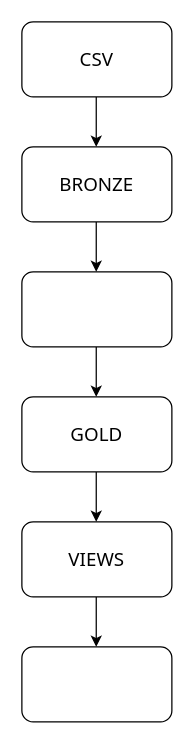
This 194x744 diagram has some shape labels left out. The centre of each missing label's shape, as x and y in pixels:
"POWER BI" goes at (96,684).
"SILVER" goes at (96,309).
